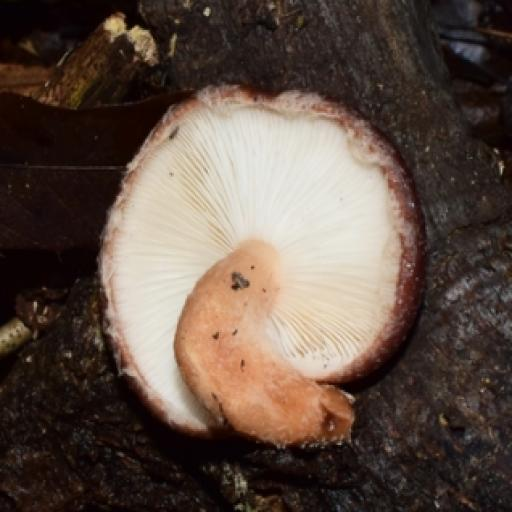Shiitake Mushroom: (89, 68, 442, 453)
